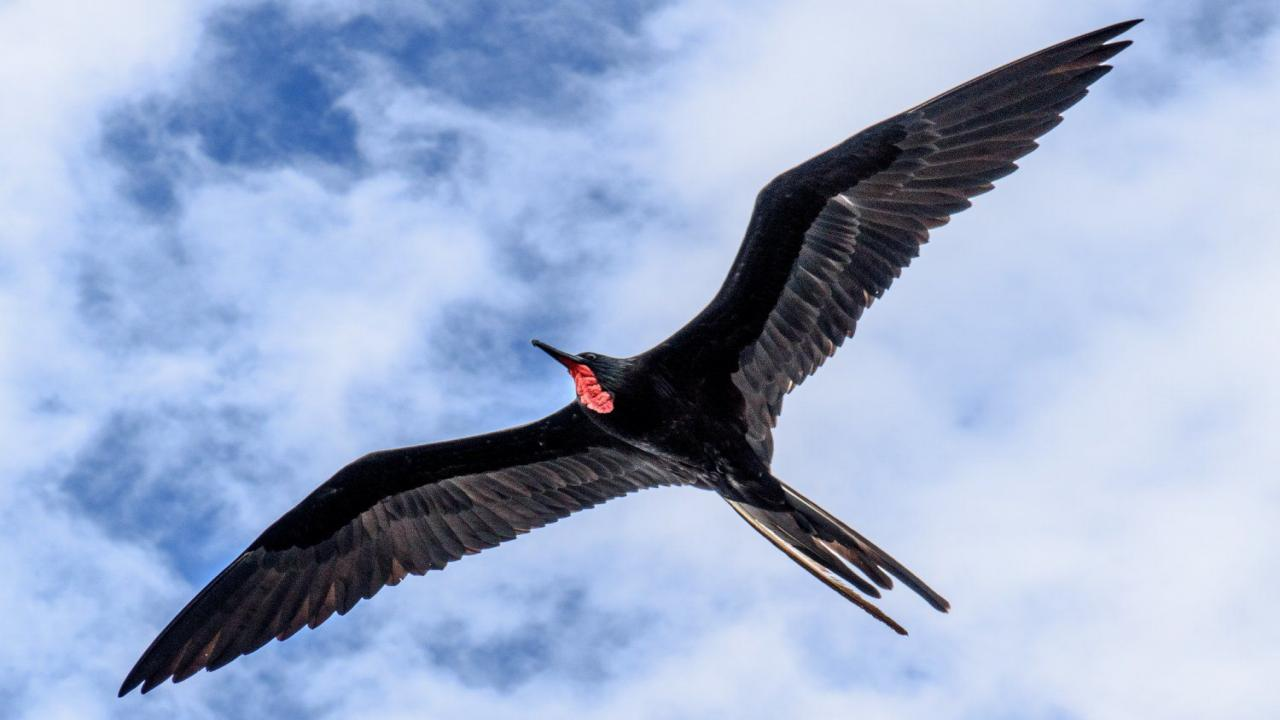Bird: (103, 8, 1160, 703)
